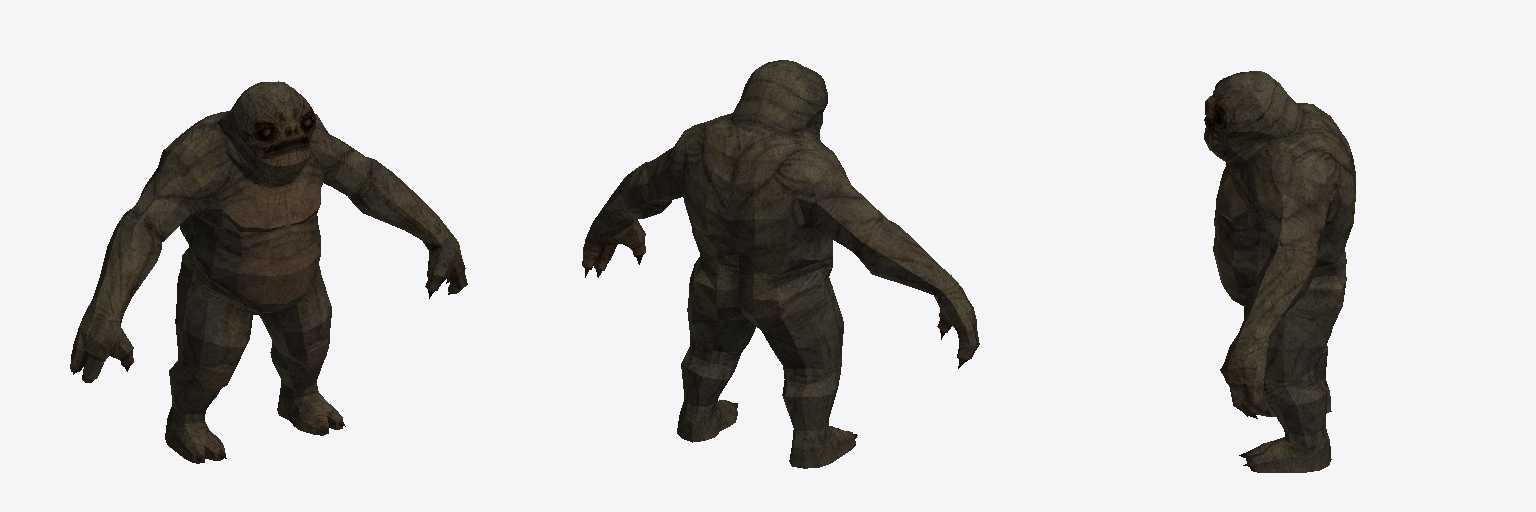
3 renders of one model, left to right at view 1: azimuth 30°, elevation 25°; view 2: azimuth 150°, elevation 25°; view 3: azimuth 270°, elevation 25°, orthographic.
Parts seen in each view (by area): view 1: mesh; view 2: mesh; view 3: mesh.
Boxes of the visible parts, x1,y1,x2,y2 form: mesh: [70, 81, 467, 463]; mesh: [582, 60, 979, 468]; mesh: [1204, 71, 1355, 472].
Bounding box in the file's own units: 2.62 × 2.28 × 0.8736.
Materials: 1 (1 with a texture image).